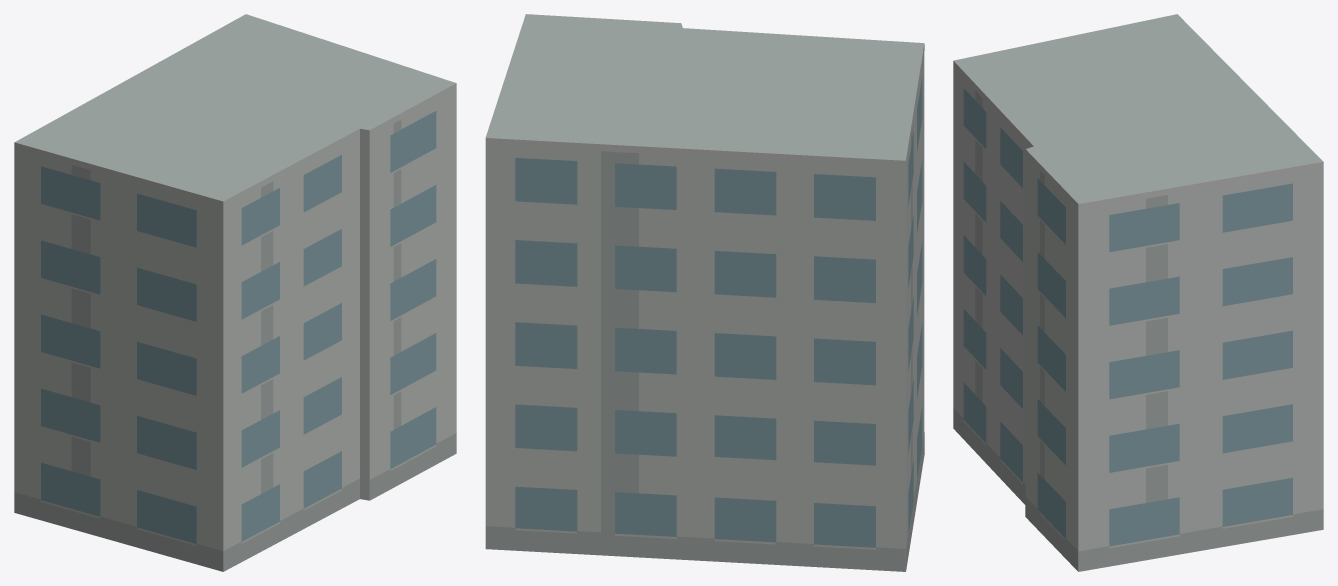
Rendered from survey-upis-32985404.glb.
3 views of the same model, side by side, from view 1: azimuth 30°, elevation 25°; view 2: azimuth 150°, elevation 25°; view 3: azimuth 270°, elevation 25° (orthographic). The views are drawn at different scales.
Visible parts, largest first — view 1: survey-upis-32985404.tmp; view 2: survey-upis-32985404.tmp; view 3: survey-upis-32985404.tmp.
Part boxes in pixels (bbox=[...]): survey-upis-32985404.tmp: bbox=[14, 14, 456, 571]; survey-upis-32985404.tmp: bbox=[485, 14, 924, 571]; survey-upis-32985404.tmp: bbox=[953, 14, 1323, 571].
Bounding box in the file's own units: 15.86 × 14.3 × 13.06.
